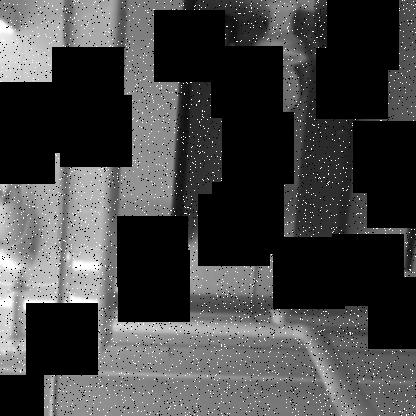Porte: (165, 1, 373, 297)
